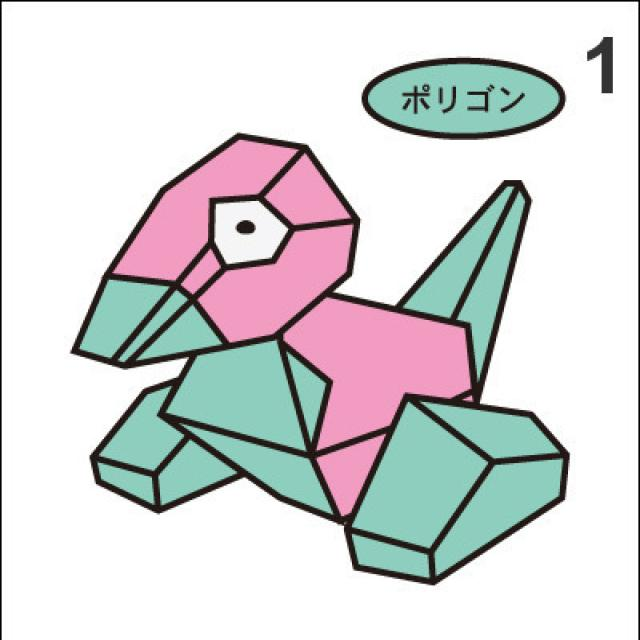Porygon: (74, 133, 575, 583)
